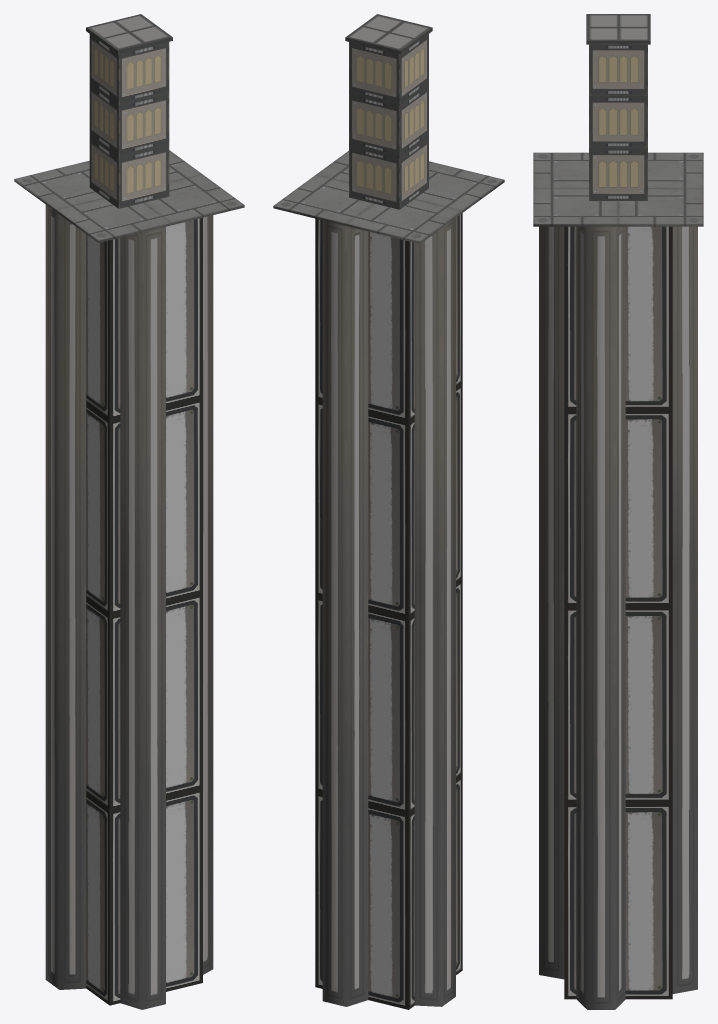
Rendered from Sci-Fi_Prefab_Var4.fbx.
3 views of the same model, side by side, from view 1: azimuth 30°, elevation 25°; view 2: azimuth 150°, elevation 25°; view 3: azimuth 270°, elevation 25° (orthographic).
Parts seen in each view (by area): view 1: ProjectRG_Environment_Sci-Fi_TallTowerSupport.017, ProjectRG_Environment_Sci-Fi_TallTowerSupport.014, ProjectRG_Environment_Sci-Fi_ModBlock_Tall.021, ProjectRG_Environment_Sci-Fi_ModBlock_Tall.022, ProjectRG_Environment_Sci-Fi_ModBlock_Tall.020, ProjectRG_Environment_Sci-Fi_ModBlock_Tall.023, ProjectRG_Environment_Sci-Fi_TallTowerSupport.011, ProjectRG_Environment_Sci-Fi_TowerTopBlockPiece_Var1.002, ProjectRG_Environment_Sci-Fi_TowerTopBlockPiece_Var1.001, ProjectRG_Environment_Sci-Fi_TowerTopBlockPiece_Var1.003, ProjectRG_Environment_Sci-Fi_SquarePlatform.008, ProjectRG_Environment_Sci-Fi_SquarePlatform.007 (+3 smaller); view 2: ProjectRG_Environment_Sci-Fi_TallTowerSupport.016, ProjectRG_Environment_Sci-Fi_TallTowerSupport.014, ProjectRG_Environment_Sci-Fi_ModBlock_Tall.020, ProjectRG_Environment_Sci-Fi_ModBlock_Tall.021, ProjectRG_Environment_Sci-Fi_ModBlock_Tall.022, ProjectRG_Environment_Sci-Fi_ModBlock_Tall.023, ProjectRG_Environment_Sci-Fi_TowerTopBlockPiece_Var1.001, ProjectRG_Environment_Sci-Fi_TowerTopBlockPiece_Var1.002, ProjectRG_Environment_Sci-Fi_TowerTopBlockPiece_Var1.003, ProjectRG_Environment_Sci-Fi_SquarePlatform.005, ProjectRG_Environment_Sci-Fi_SquarePlatform.006, ProjectRG_Environment_Sci-Fi_SquarePlatform.008 (+2 smaller); view 3: ProjectRG_Environment_Sci-Fi_TallTowerSupport.011, ProjectRG_Environment_Sci-Fi_TallTowerSupport.016, ProjectRG_Environment_Sci-Fi_TallTowerSupport.017, ProjectRG_Environment_Sci-Fi_ModBlock_Tall.022, ProjectRG_Environment_Sci-Fi_ModBlock_Tall.020, ProjectRG_Environment_Sci-Fi_ModBlock_Tall.021, ProjectRG_Environment_Sci-Fi_ModBlock_Tall.023, ProjectRG_Environment_Sci-Fi_TowerTopBlockPiece_Var1.001, ProjectRG_Environment_Sci-Fi_TowerTopBlockPiece_Var1.002, ProjectRG_Environment_Sci-Fi_TowerTopBlockPiece_Var1.003, ProjectRG_Environment_Sci-Fi_SquarePlatform.006, ProjectRG_Environment_Sci-Fi_SquarePlatform.007 (+3 smaller).
Boxes of the visible parts, box(x1,y1,x2,y2) form: ProjectRG_Environment_Sci-Fi_TallTowerSupport.017: box(120, 226, 165, 1009); ProjectRG_Environment_Sci-Fi_TallTowerSupport.014: box(45, 205, 86, 989); ProjectRG_Environment_Sci-Fi_ModBlock_Tall.021: box(86, 593, 202, 810); ProjectRG_Environment_Sci-Fi_ModBlock_Tall.022: box(86, 398, 202, 615); ProjectRG_Environment_Sci-Fi_ModBlock_Tall.020: box(86, 788, 202, 1005); ProjectRG_Environment_Sci-Fi_ModBlock_Tall.023: box(86, 217, 202, 420); ProjectRG_Environment_Sci-Fi_TallTowerSupport.011: box(203, 215, 213, 974); ProjectRG_Environment_Sci-Fi_TowerTopBlockPiece_Var1.002: box(89, 84, 169, 156); ProjectRG_Environment_Sci-Fi_TowerTopBlockPiece_Var1.001: box(89, 136, 169, 208); ProjectRG_Environment_Sci-Fi_TowerTopBlockPiece_Var1.003: box(89, 34, 169, 104); ProjectRG_Environment_Sci-Fi_SquarePlatform.008: box(56, 198, 171, 242); ProjectRG_Environment_Sci-Fi_SquarePlatform.007: box(144, 174, 244, 224); ProjectRG_Environment_Sci-Fi_TallTowerSupport.016: box(322, 220, 368, 1006); ProjectRG_Environment_Sci-Fi_TallTowerSupport.014: box(414, 218, 455, 1006); ProjectRG_Environment_Sci-Fi_ModBlock_Tall.020: box(315, 775, 462, 1009); ProjectRG_Environment_Sci-Fi_ModBlock_Tall.021: box(315, 579, 462, 813); ProjectRG_Environment_Sci-Fi_ModBlock_Tall.022: box(315, 383, 462, 617); ProjectRG_Environment_Sci-Fi_ModBlock_Tall.023: box(315, 213, 462, 422); ProjectRG_Environment_Sci-Fi_TowerTopBlockPiece_Var1.001: box(349, 136, 428, 209); ProjectRG_Environment_Sci-Fi_TowerTopBlockPiece_Var1.002: box(349, 84, 428, 157); ProjectRG_Environment_Sci-Fi_TowerTopBlockPiece_Var1.003: box(349, 34, 428, 105); ProjectRG_Environment_Sci-Fi_SquarePlatform.005: box(346, 199, 462, 243); ProjectRG_Environment_Sci-Fi_SquarePlatform.006: box(273, 175, 373, 225); ProjectRG_Environment_Sci-Fi_SquarePlatform.008: box(415, 162, 504, 212); ProjectRG_Environment_Sci-Fi_TallTowerSupport.011: box(576, 226, 625, 1009); ProjectRG_Environment_Sci-Fi_TallTowerSupport.016: box(672, 226, 697, 993); ProjectRG_Environment_Sci-Fi_TallTowerSupport.017: box(539, 226, 564, 979); ProjectRG_Environment_Sci-Fi_ModBlock_Tall.022: box(564, 410, 672, 606); ProjectRG_Environment_Sci-Fi_ModBlock_Tall.020: box(564, 803, 672, 999); ProjectRG_Environment_Sci-Fi_ModBlock_Tall.021: box(564, 606, 672, 802); ProjectRG_Environment_Sci-Fi_ModBlock_Tall.023: box(564, 226, 672, 409); ProjectRG_Environment_Sci-Fi_TowerTopBlockPiece_Var1.001: box(589, 148, 647, 200); ProjectRG_Environment_Sci-Fi_TowerTopBlockPiece_Var1.002: box(589, 96, 647, 148); ProjectRG_Environment_Sci-Fi_TowerTopBlockPiece_Var1.003: box(589, 44, 647, 95); ProjectRG_Environment_Sci-Fi_SquarePlatform.006: box(618, 188, 703, 226); ProjectRG_Environment_Sci-Fi_SquarePlatform.007: box(533, 188, 618, 226).
Bounding box in the file's own units: 784 × 4831 × 784.
